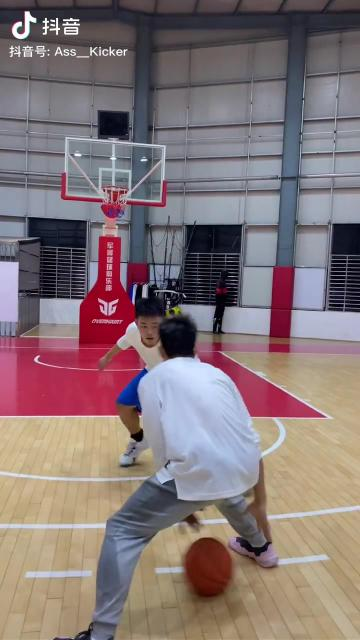ball: (180, 536, 235, 598)
basket: (100, 184, 130, 210)
